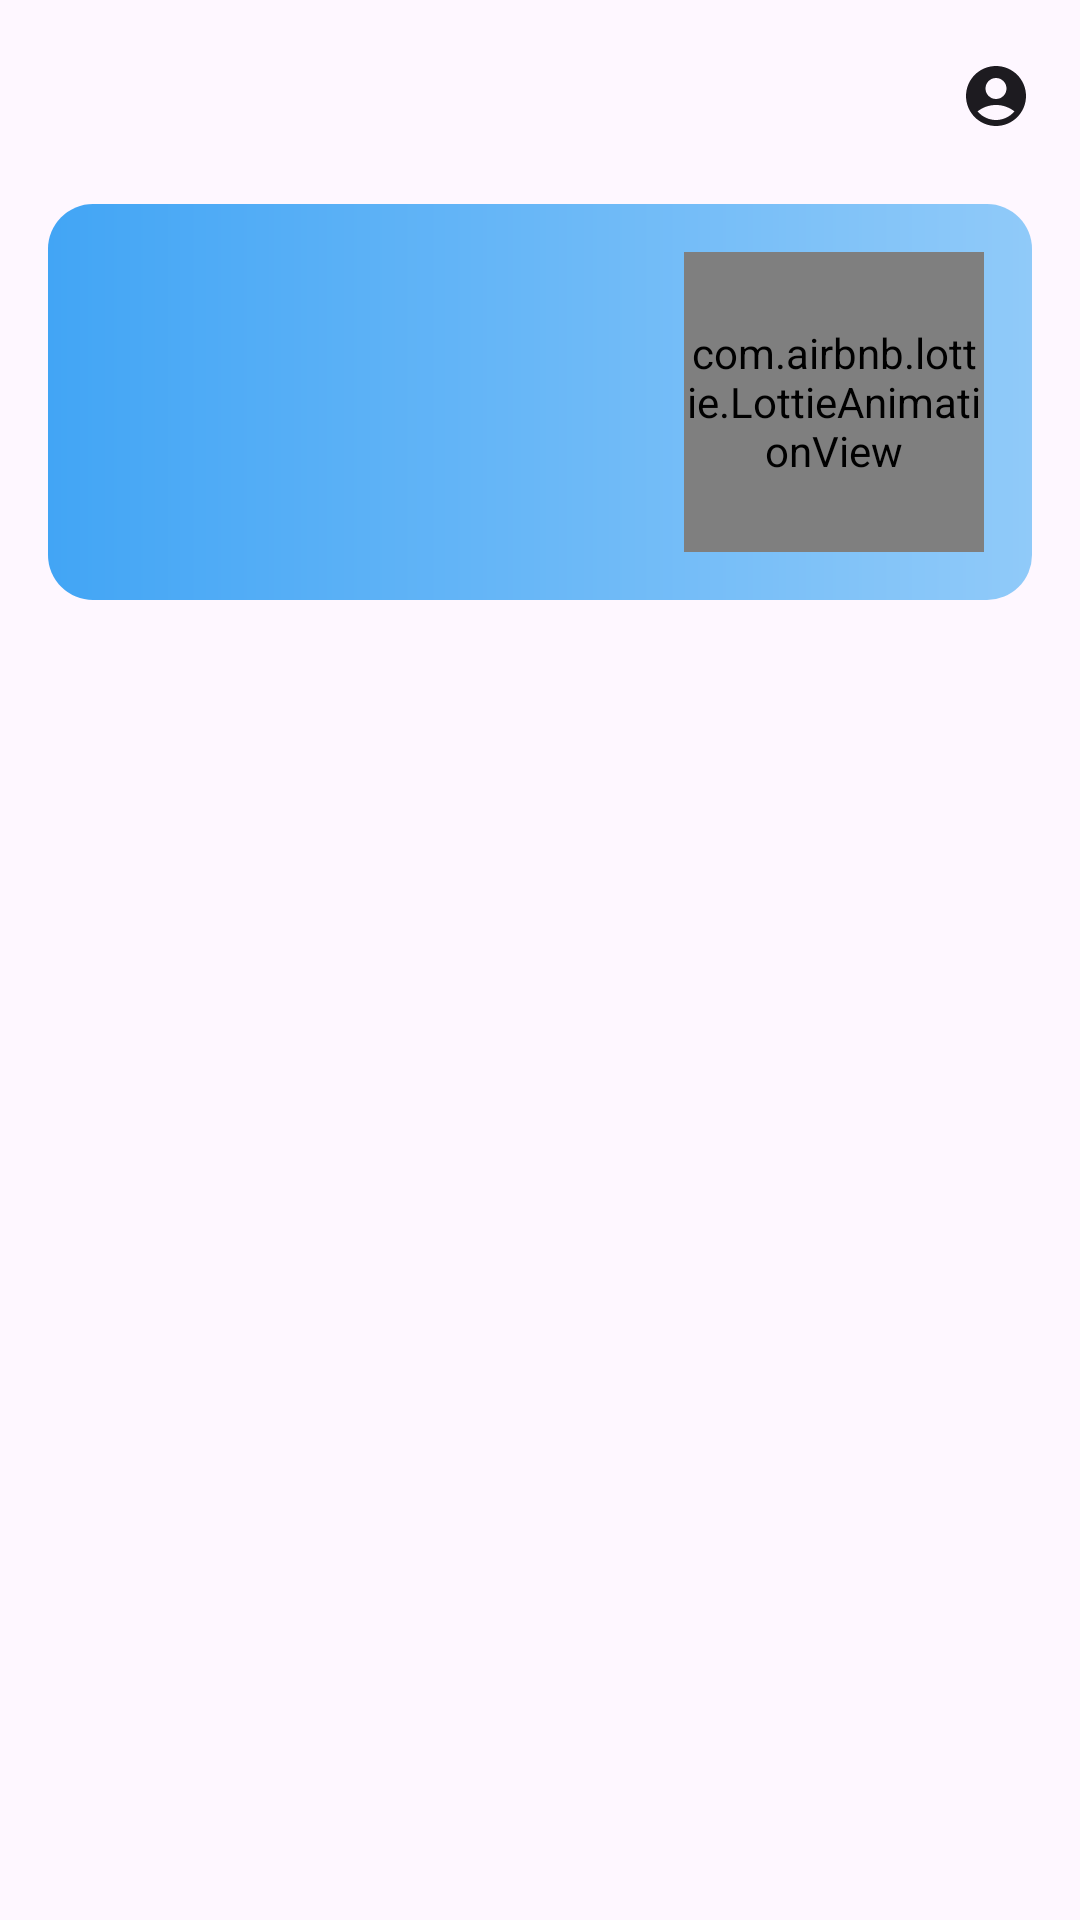

Screen size 1080px×1920px. Icon name, then its center in pixels as [x,y]:
লগইন: [996,96]
